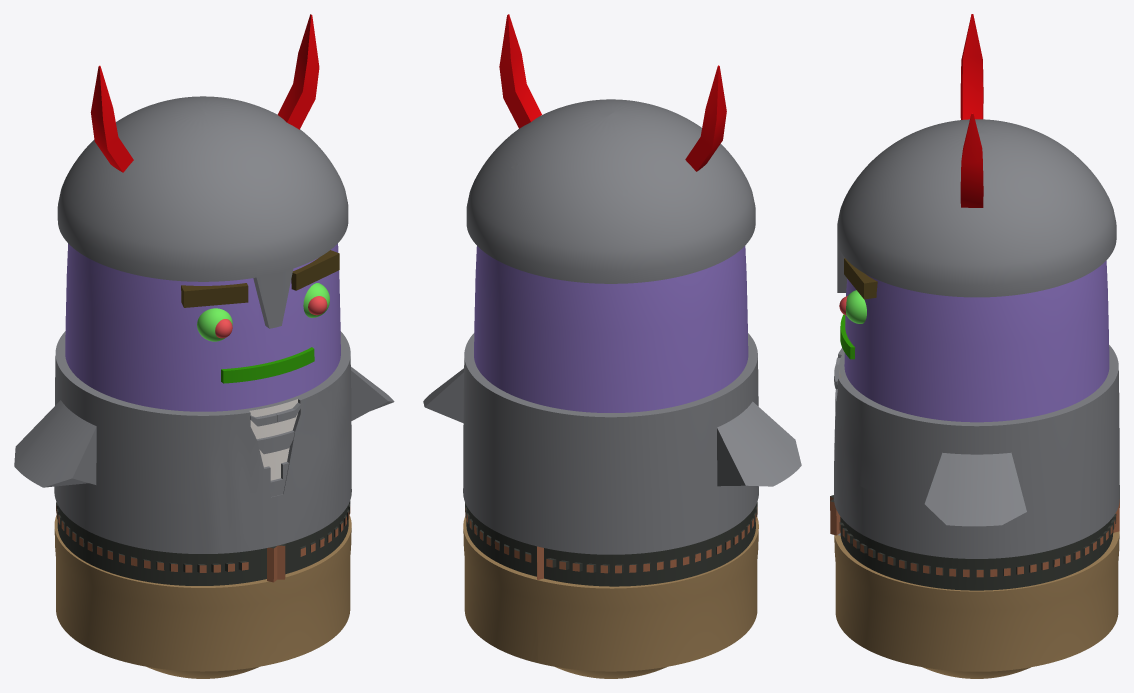
Rendered from VikingFin.fbx.
The picture shows the model from 3 angles, left to right: view 1: azimuth 30°, elevation 25°; view 2: azimuth 150°, elevation 25°; view 3: azimuth 270°, elevation 25°; orthographic projection. The views are drawn at different scales.
Parts seen in each view (by area): view 1: Sphere, Cube, Sphere.001, Sphere.002; view 2: Sphere; view 3: Sphere, Cube, Sphere.001.
Boxes of the visible parts, x1,y1,x2,y2 form: Sphere: (14, 14, 394, 678); Cube: (181, 250, 339, 307); Sphere.001: (197, 283, 329, 341); Sphere.002: (215, 296, 327, 338); Sphere: (423, 14, 801, 678); Sphere: (830, 14, 1119, 678); Cube: (844, 258, 877, 299); Sphere.001: (846, 290, 866, 323).
Size of the model in its own units: 292 by 492 by 214.
